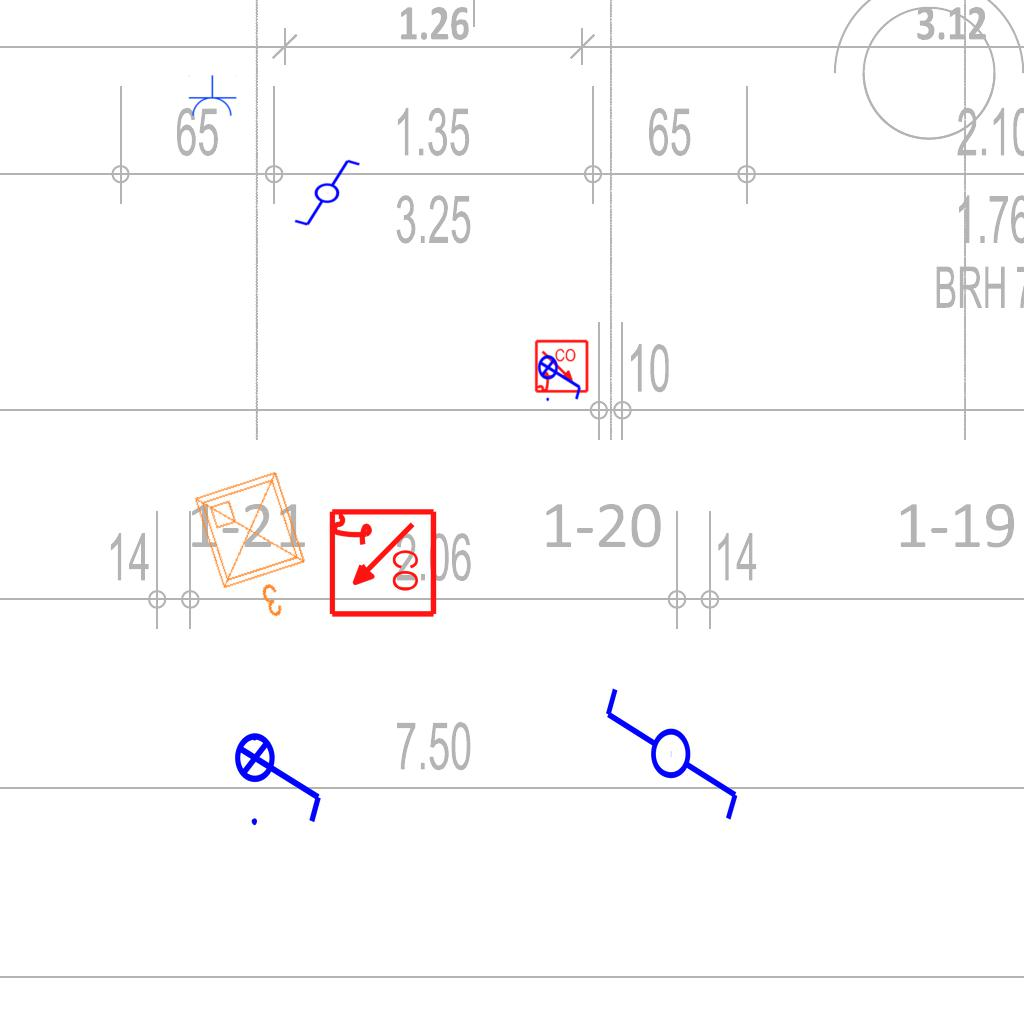Ausschalter_beleuchtet: (233, 719, 329, 831), (537, 348, 585, 404)
Einbaudownlights_LED_Konferenzraeume: (185, 461, 331, 637)
ROA_Rauchmelder_optisch_mit_Signalgeber_(Sockelsirene): (325, 507, 438, 620), (534, 339, 590, 395)
Schukosteckdose_einfach: (187, 75, 237, 118)
Wechselschalter: (601, 667, 745, 824), (284, 156, 362, 228)
